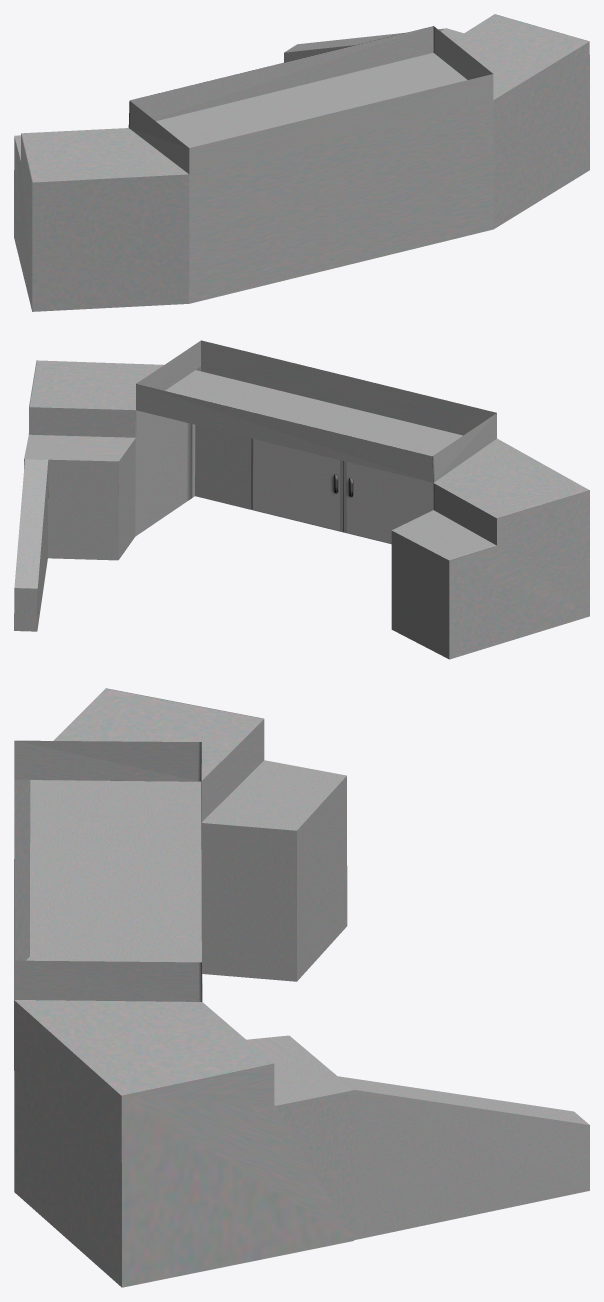
Rendered from Exit_2_Ufa.FBX.
3 views of the same model, one above another, from view 1: azimuth 30°, elevation 25°; view 2: azimuth 150°, elevation 25°; view 3: azimuth 270°, elevation 25° (orthographic). The views are drawn at different scales.
Parts seen in each view (by area): view 1: Exit_2_Ufa; view 2: Exit_2_Ufa; view 3: Exit_2_Ufa.
Boxes of the visible parts, box(x1,y1,x2,y2) form: Exit_2_Ufa: box(14, 14, 589, 311); Exit_2_Ufa: box(14, 340, 589, 659); Exit_2_Ufa: box(14, 688, 589, 1287).
Size of the model in its own units: 9.94 by 2.65 by 5.93.
